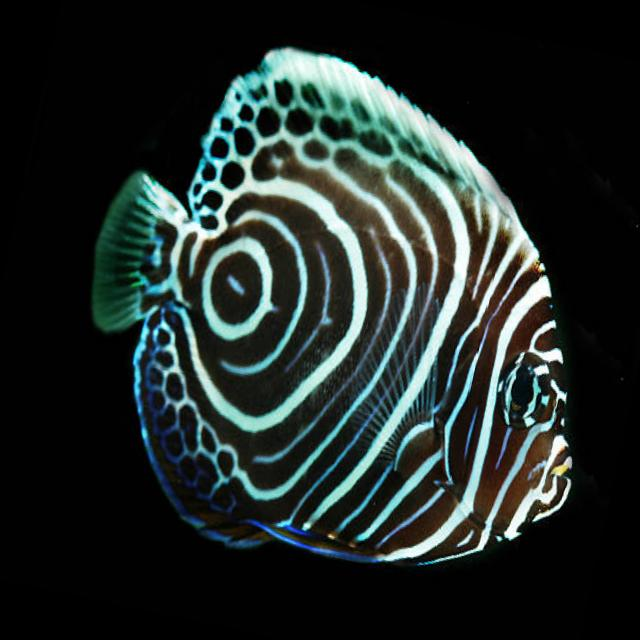AngelFish: (37, 14, 640, 613)
